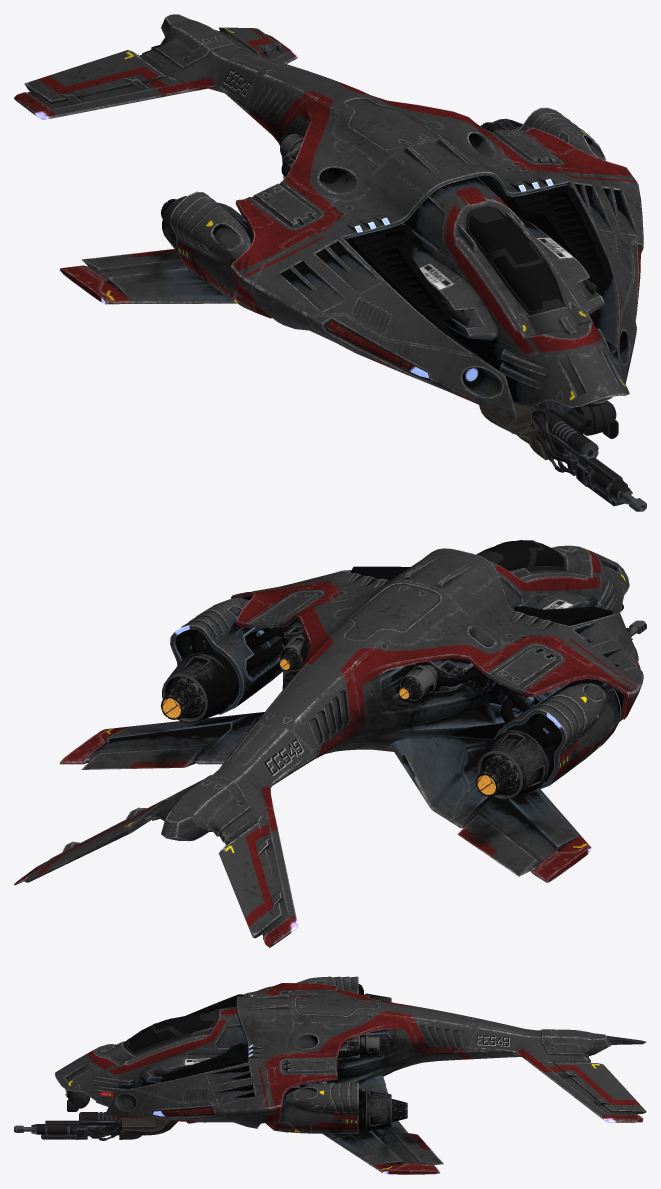
Rendered from space_fighter.glb.
The picture shows the model from 3 angles, top to bottom: view 1: azimuth 30°, elevation 25°; view 2: azimuth 150°, elevation 25°; view 3: azimuth 270°, elevation 25°; orthographic projection. The views are drawn at different scales.
Visible parts, largest first — view 1: plane body, engines, gun body, Shape001, gun turret; view 2: plane body, engines; view 3: plane body, engines, gun body, gun turret, Shape001.
Part boxes in pixels (x1,y1,x2,y2): plane body: (14,14,643,420); engines: (162,107,605,318); gun body: (529,409,632,506); Shape001: (563,400,618,438); gun turret: (479,403,545,445); plane body: (14,540,643,947); engines: (162,598,620,799); plane body: (54,983,646,1174); engines: (265,976,391,1133); gun body: (31,1112,141,1140); gun turret: (122,1118,177,1135); Shape001: (65,1089,90,1111).
Size of the model in its own units: 180 by 77.74 by 323.
Materials: 2 (2 with a texture image).
